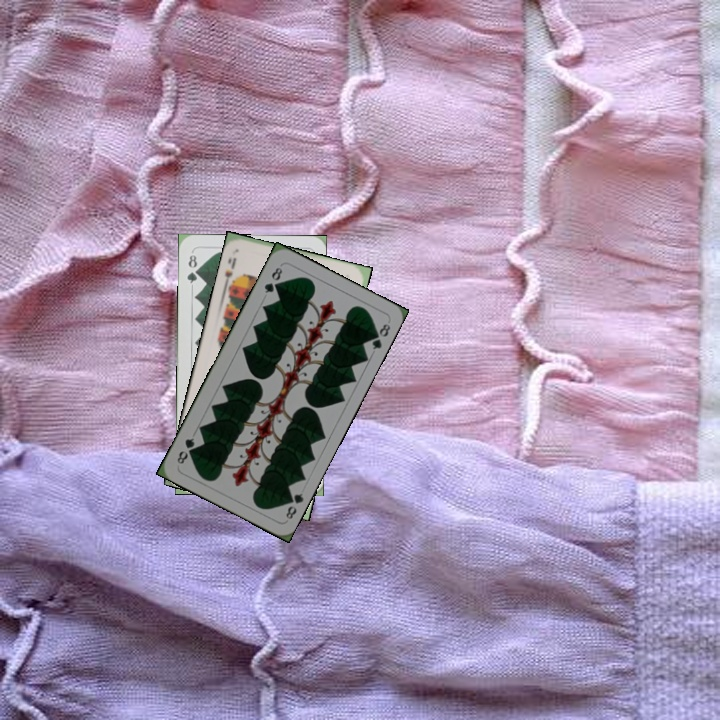G8: (260, 261, 285, 296), (281, 489, 306, 522), (183, 251, 201, 286)
S9: (220, 253, 240, 289)
